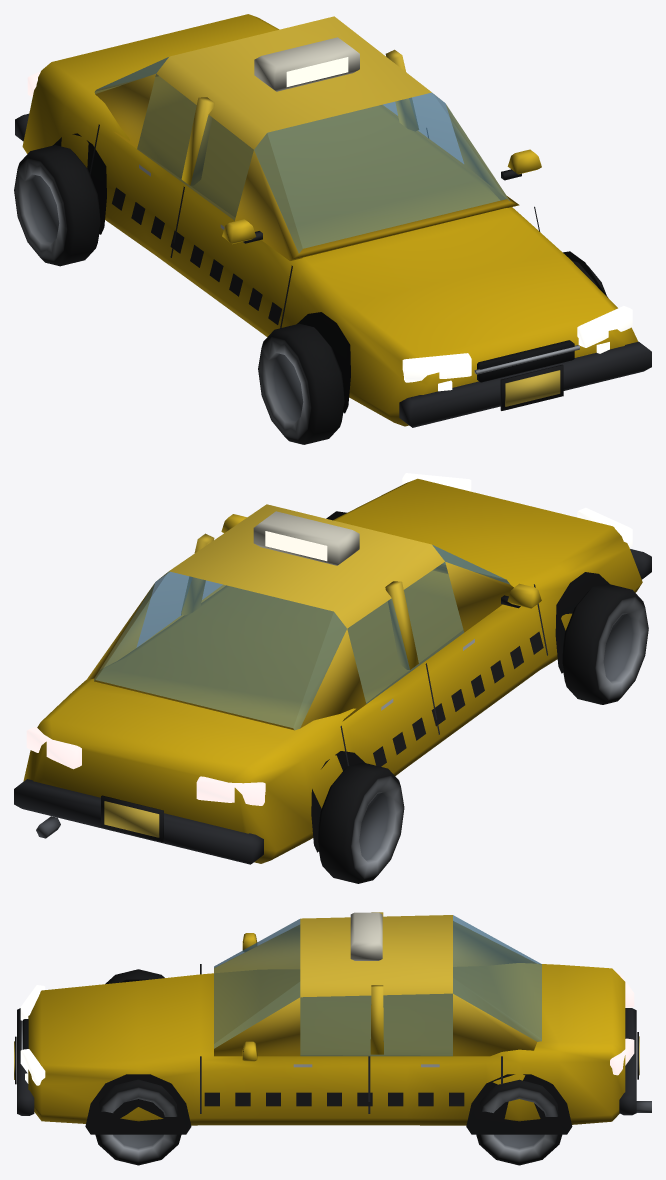
The model's file is taxi_amarillo.glb.
3 renders of one model, top to bottom at view 1: azimuth 30°, elevation 25°; view 2: azimuth 150°, elevation 25°; view 3: azimuth 270°, elevation 25°, orthographic. The views are drawn at different scales.
Parts seen in each view (by area): view 1: taxi_amarillo; view 2: taxi_amarillo; view 3: taxi_amarillo.
Boxes of the visible parts, bbox=[...] form: taxi_amarillo: bbox=[14, 14, 651, 444]; taxi_amarillo: bbox=[14, 473, 651, 883]; taxi_amarillo: bbox=[14, 912, 651, 1165].
Size of the model in its own units: 2.2 by 1.57 by 4.81.
